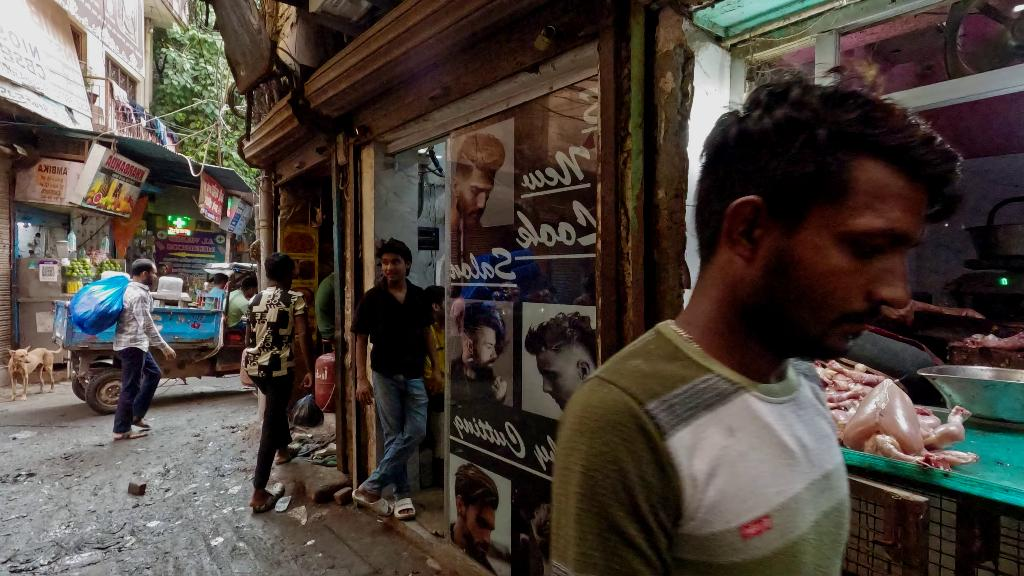garbage: (268, 495, 315, 528)
